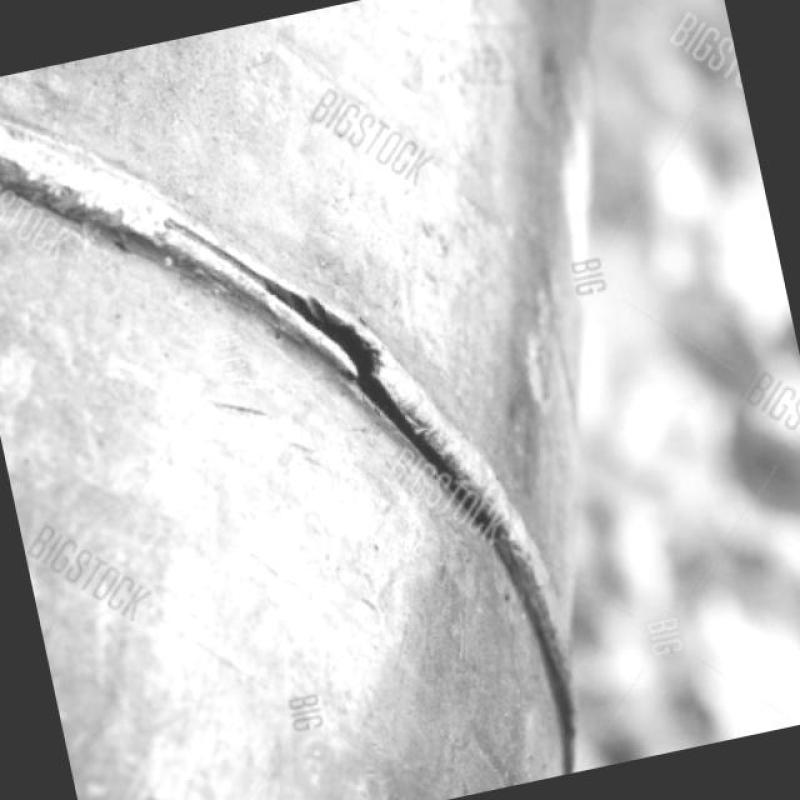Fracture: (188, 205, 392, 383)
